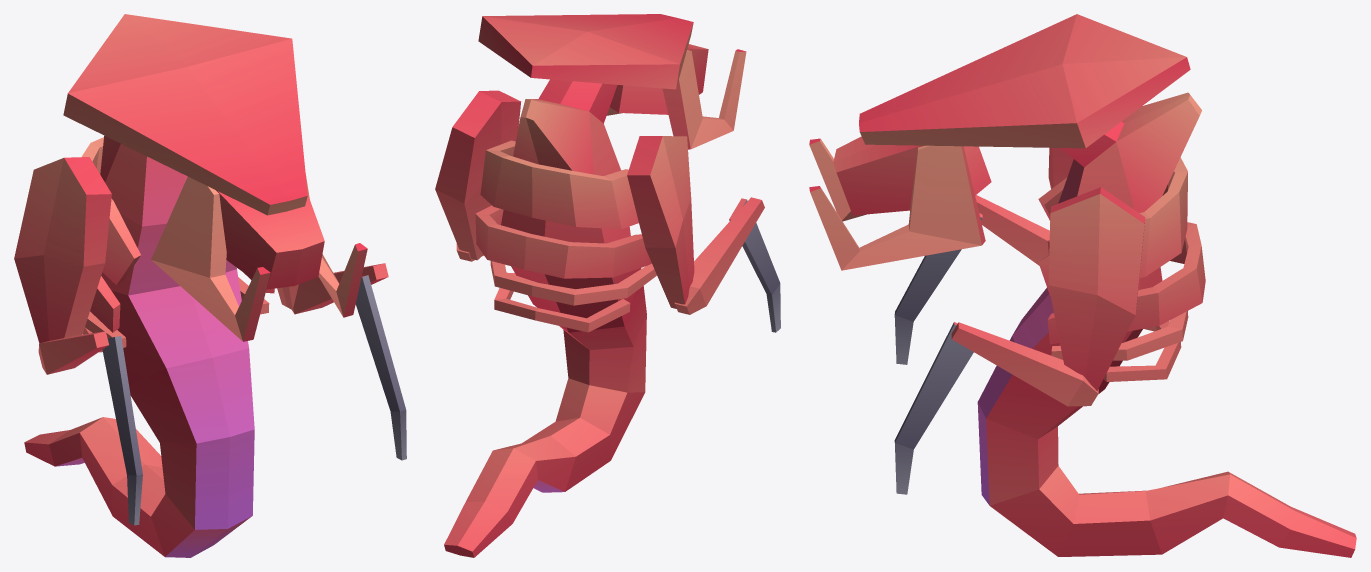
Rendered from Alien_01.fbx.
3 views of the same model, side by side, from view 1: azimuth 30°, elevation 25°; view 2: azimuth 150°, elevation 25°; view 3: azimuth 270°, elevation 25° (orthographic). The views are drawn at different scales.
Visible parts, largest first — view 1: Cube.003; view 2: Cube.003; view 3: Cube.003.
Boxes of the visible parts, bbox=[...] form: Cube.003: bbox=[14, 14, 406, 557]; Cube.003: bbox=[435, 14, 780, 557]; Cube.003: bbox=[809, 14, 1356, 557].
Bounding box in the file's own units: 301 × 488 × 490.
